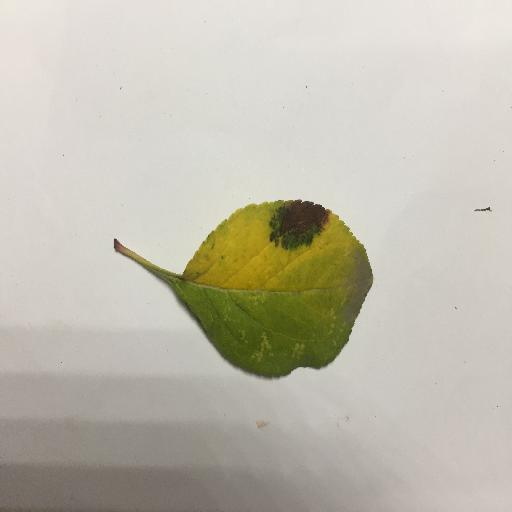Brown_Spot: (263, 196, 335, 251)
